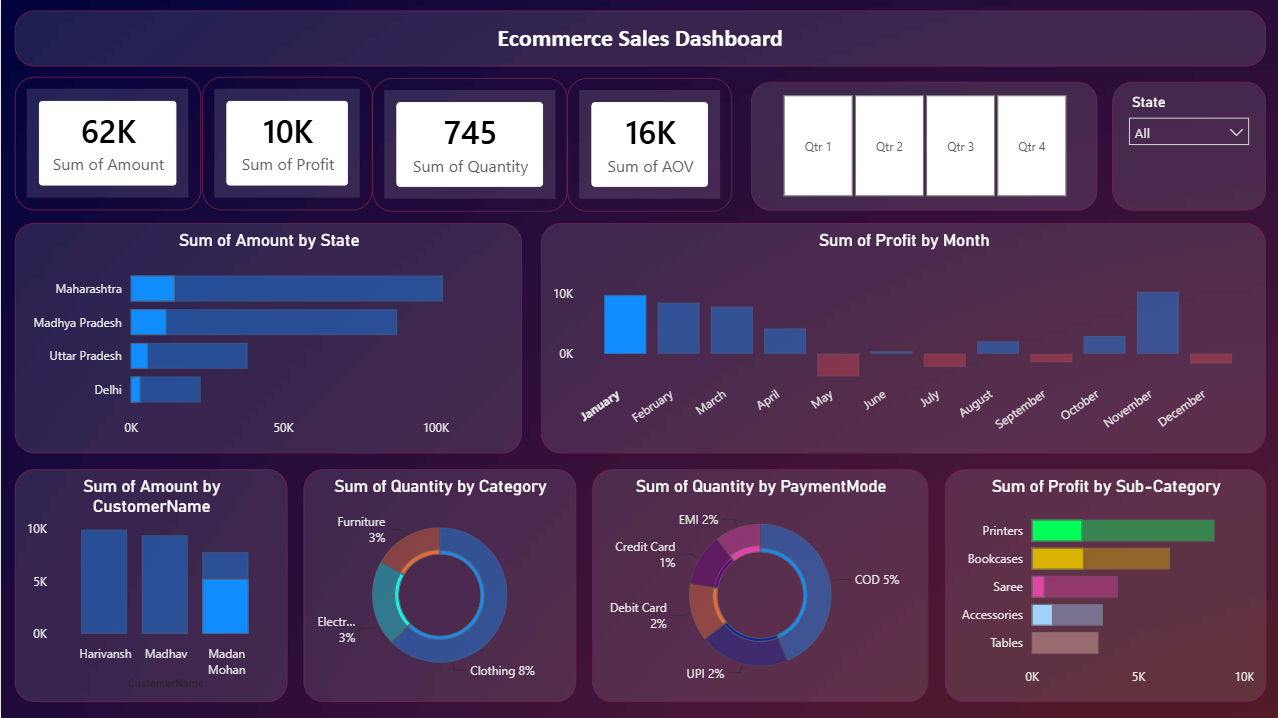

What the dashboard file says about the page in this screenshot:
{"tool":"powerbi","page":{"name":"Page 1","canvas":[1280,720],"ordinal":0},"visuals":[{"type":"textbox","box":[13.8,12.5,1251.2,56.2],"z":0},{"type":"columnChart","fields":{"Category":["Orders.Order Date.Variation.Date Hierarchy.Month"],"Y":["Sum(Details.Profit)"]},"box":[540,225,725,230],"z":1000},{"type":"barChart","fields":{"Category":["Details.Sub-Category"],"Y":["Sum(Details.Profit)"]},"box":[943.8,471.2,321.2,232.5],"z":2000},{"type":"donutChart","fields":{"Category":["Details.Category"],"Y":["Sum(Details.Quantity)"]},"box":[302.5,471.2,272.5,232.5],"z":3000},{"type":"donutChart","fields":{"Y":["Sum(Details.Quantity)"],"Category":["Details.PaymentMode"]},"box":[591.2,471.2,336.2,232.5],"z":4000},{"type":"cardVisual","fields":{"Data":["Sum(Details.Amount)"]},"box":[13.8,78.8,186.2,133.8],"z":5000},{"type":"cardVisual","fields":{"Data":["Sum(Details.Profit)"]},"box":[201.2,78.8,170,133.8],"z":6000},{"type":"cardVisual","fields":{"Data":["Sum(Details.Quantity)"]},"box":[371.2,80,195,133.8],"z":7000},{"type":"cardVisual","fields":{"Data":["Sum(Details.AOV)"]},"box":[566.2,80,165,133.8],"z":7001},{"type":"barChart","fields":{"Category":["Orders.State"],"Y":["Sum(Details.Amount)"]},"box":[13.8,225,507.5,230],"z":7002},{"type":"columnChart","fields":{"Category":["Orders.CustomerName"],"Y":["Sum(Details.Amount)"]},"box":[13.8,471.2,272.5,232.5],"z":7003},{"type":"slicer","fields":{"Values":["Orders.Order Date.Variation.Date Hierarchy.Quarter"]},"box":[750,83.8,346.2,128.8],"z":7004},{"type":"slicer","fields":{"Values":["Orders.State"]},"box":[1111.2,83.8,153.8,128.8],"z":7005}]}

Visuals, with their boxes in screenshot pixels (x1, y1, x2, y2), scaled from the page's 1280x720 canvas onto the 1278x718 screenshot:
textbox: [x1=14, y1=12, x2=1263, y2=69]
columnChart - Orders.Order Date.Variation.Date Hierarchy.Month x Sum(Details.Profit): [x1=539, y1=224, x2=1263, y2=454]
barChart - Details.Sub-Category x Sum(Details.Profit): [x1=942, y1=470, x2=1263, y2=702]
donutChart - Details.Category x Sum(Details.Quantity): [x1=302, y1=470, x2=574, y2=702]
donutChart - Sum(Details.Quantity) x Details.PaymentMode: [x1=590, y1=470, x2=926, y2=702]
cardVisual - Sum(Details.Amount): [x1=14, y1=79, x2=200, y2=212]
cardVisual - Sum(Details.Profit): [x1=201, y1=79, x2=371, y2=212]
cardVisual - Sum(Details.Quantity): [x1=371, y1=80, x2=565, y2=213]
cardVisual - Sum(Details.AOV): [x1=565, y1=80, x2=730, y2=213]
barChart - Orders.State x Sum(Details.Amount): [x1=14, y1=224, x2=520, y2=454]
columnChart - Orders.CustomerName x Sum(Details.Amount): [x1=14, y1=470, x2=286, y2=702]
slicer - Orders.Order Date.Variation.Date Hierarchy.Quarter: [x1=749, y1=84, x2=1094, y2=212]
slicer - Orders.State: [x1=1109, y1=84, x2=1263, y2=212]
